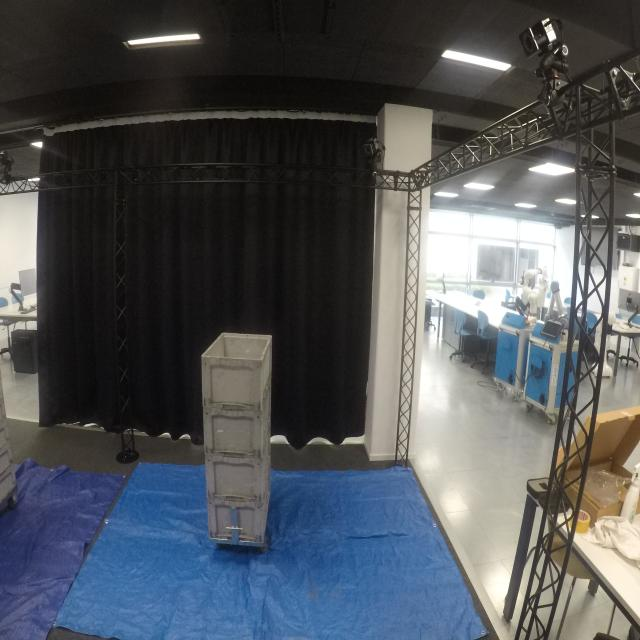Box4G: (203, 375, 274, 457), (205, 421, 273, 502), (202, 332, 276, 405), (208, 467, 272, 546)
